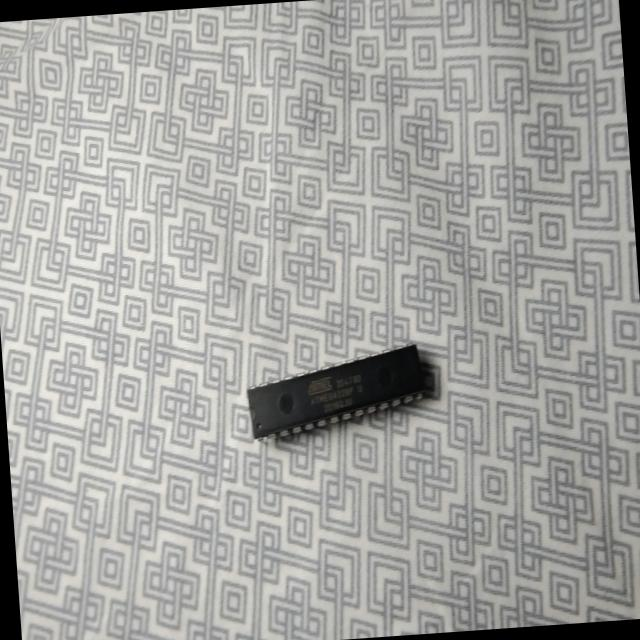atmega: (241, 337, 445, 446)
